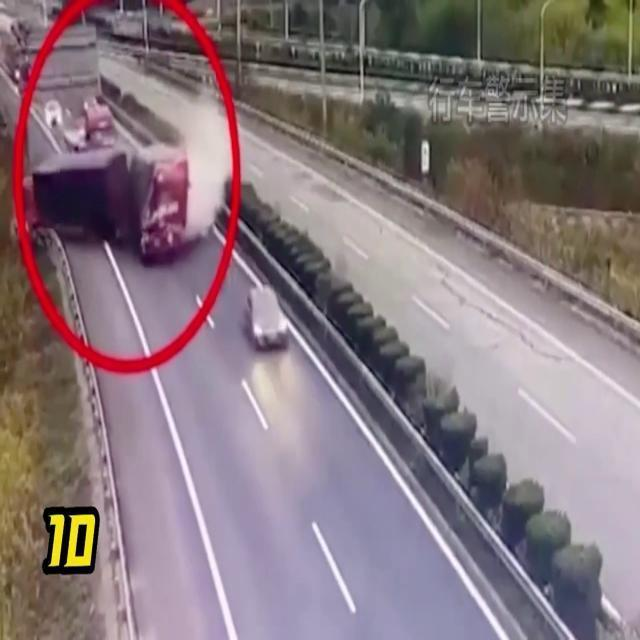accident: (19, 142, 231, 268)
